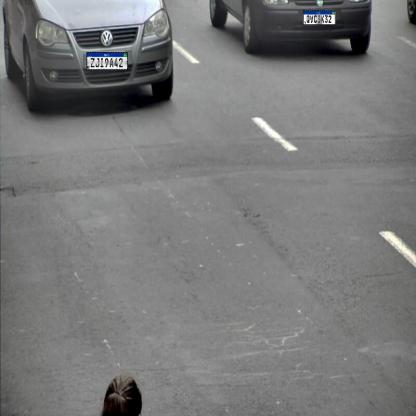PlacaM: (86, 52, 128, 70), (304, 10, 336, 25)
